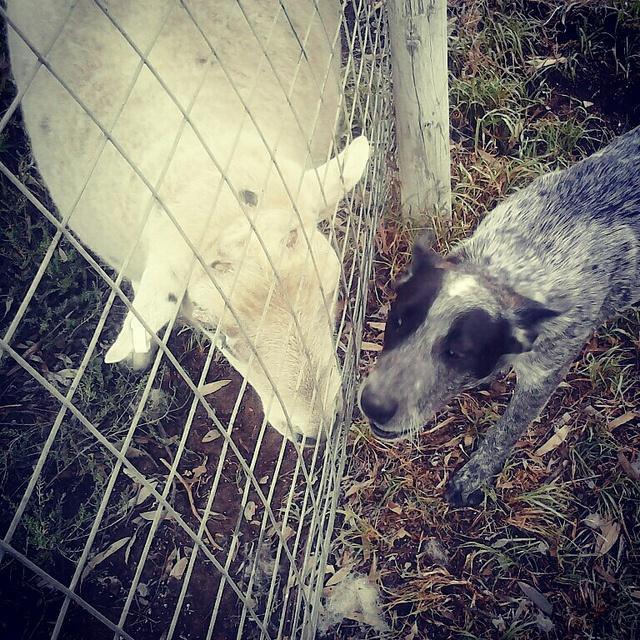dog: (355, 126, 639, 506)
